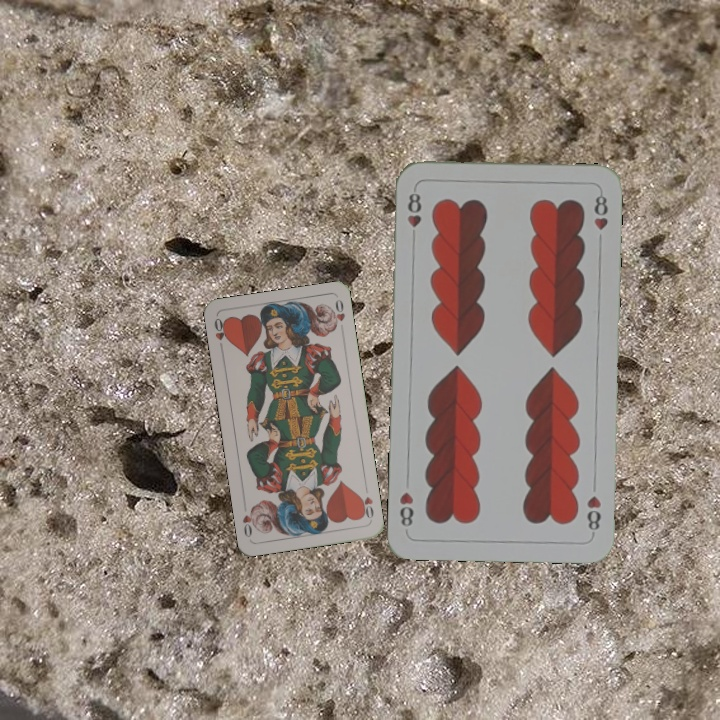H8: (404, 189, 424, 244), (582, 491, 603, 538)
HO: (210, 314, 230, 354), (355, 491, 376, 521)
